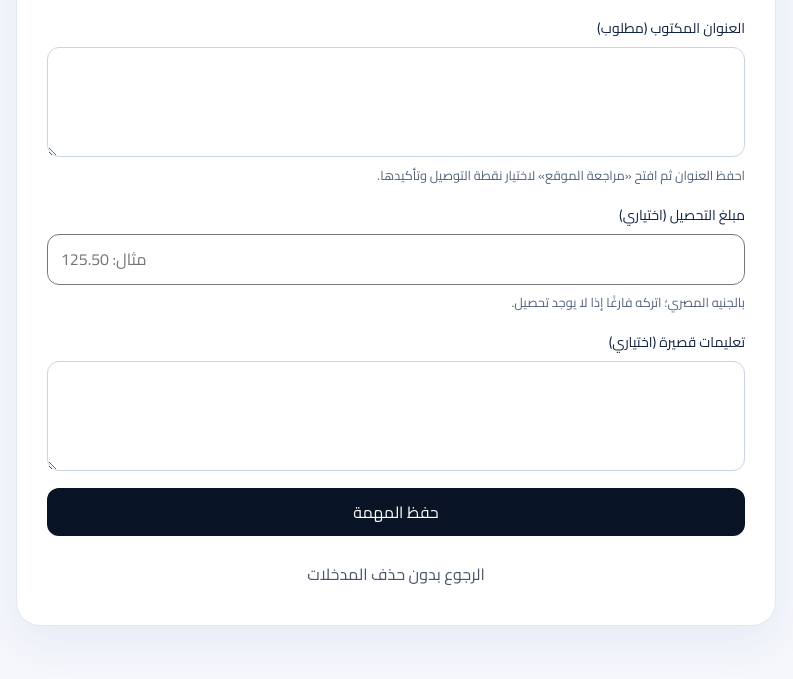
Test: independent intake client fixture › keeps missing required errors beside essential fields without sending a command
(page scrolled)
Step 1. Click the button "حفظ المهمة" → {"x": 396, "y": 512}, box [47,488,745,536]
(page scrolled)
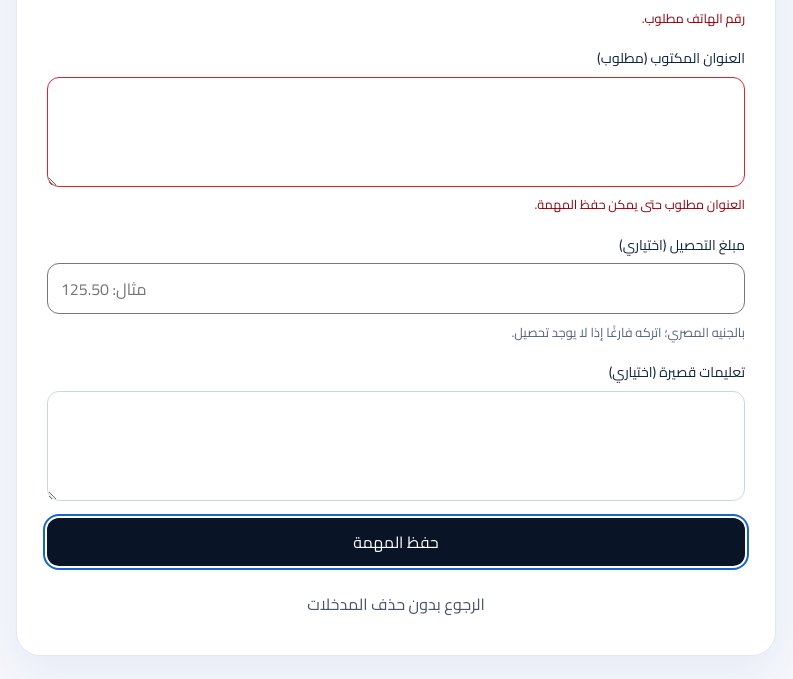
Expected: the text "رقم الهاتف مطلوب." is shown, [642,6,745,30]
Expected: the text "العنوان مطلوب حتى يمكن حفظ المهمة." is shown, [534,192,745,216]
